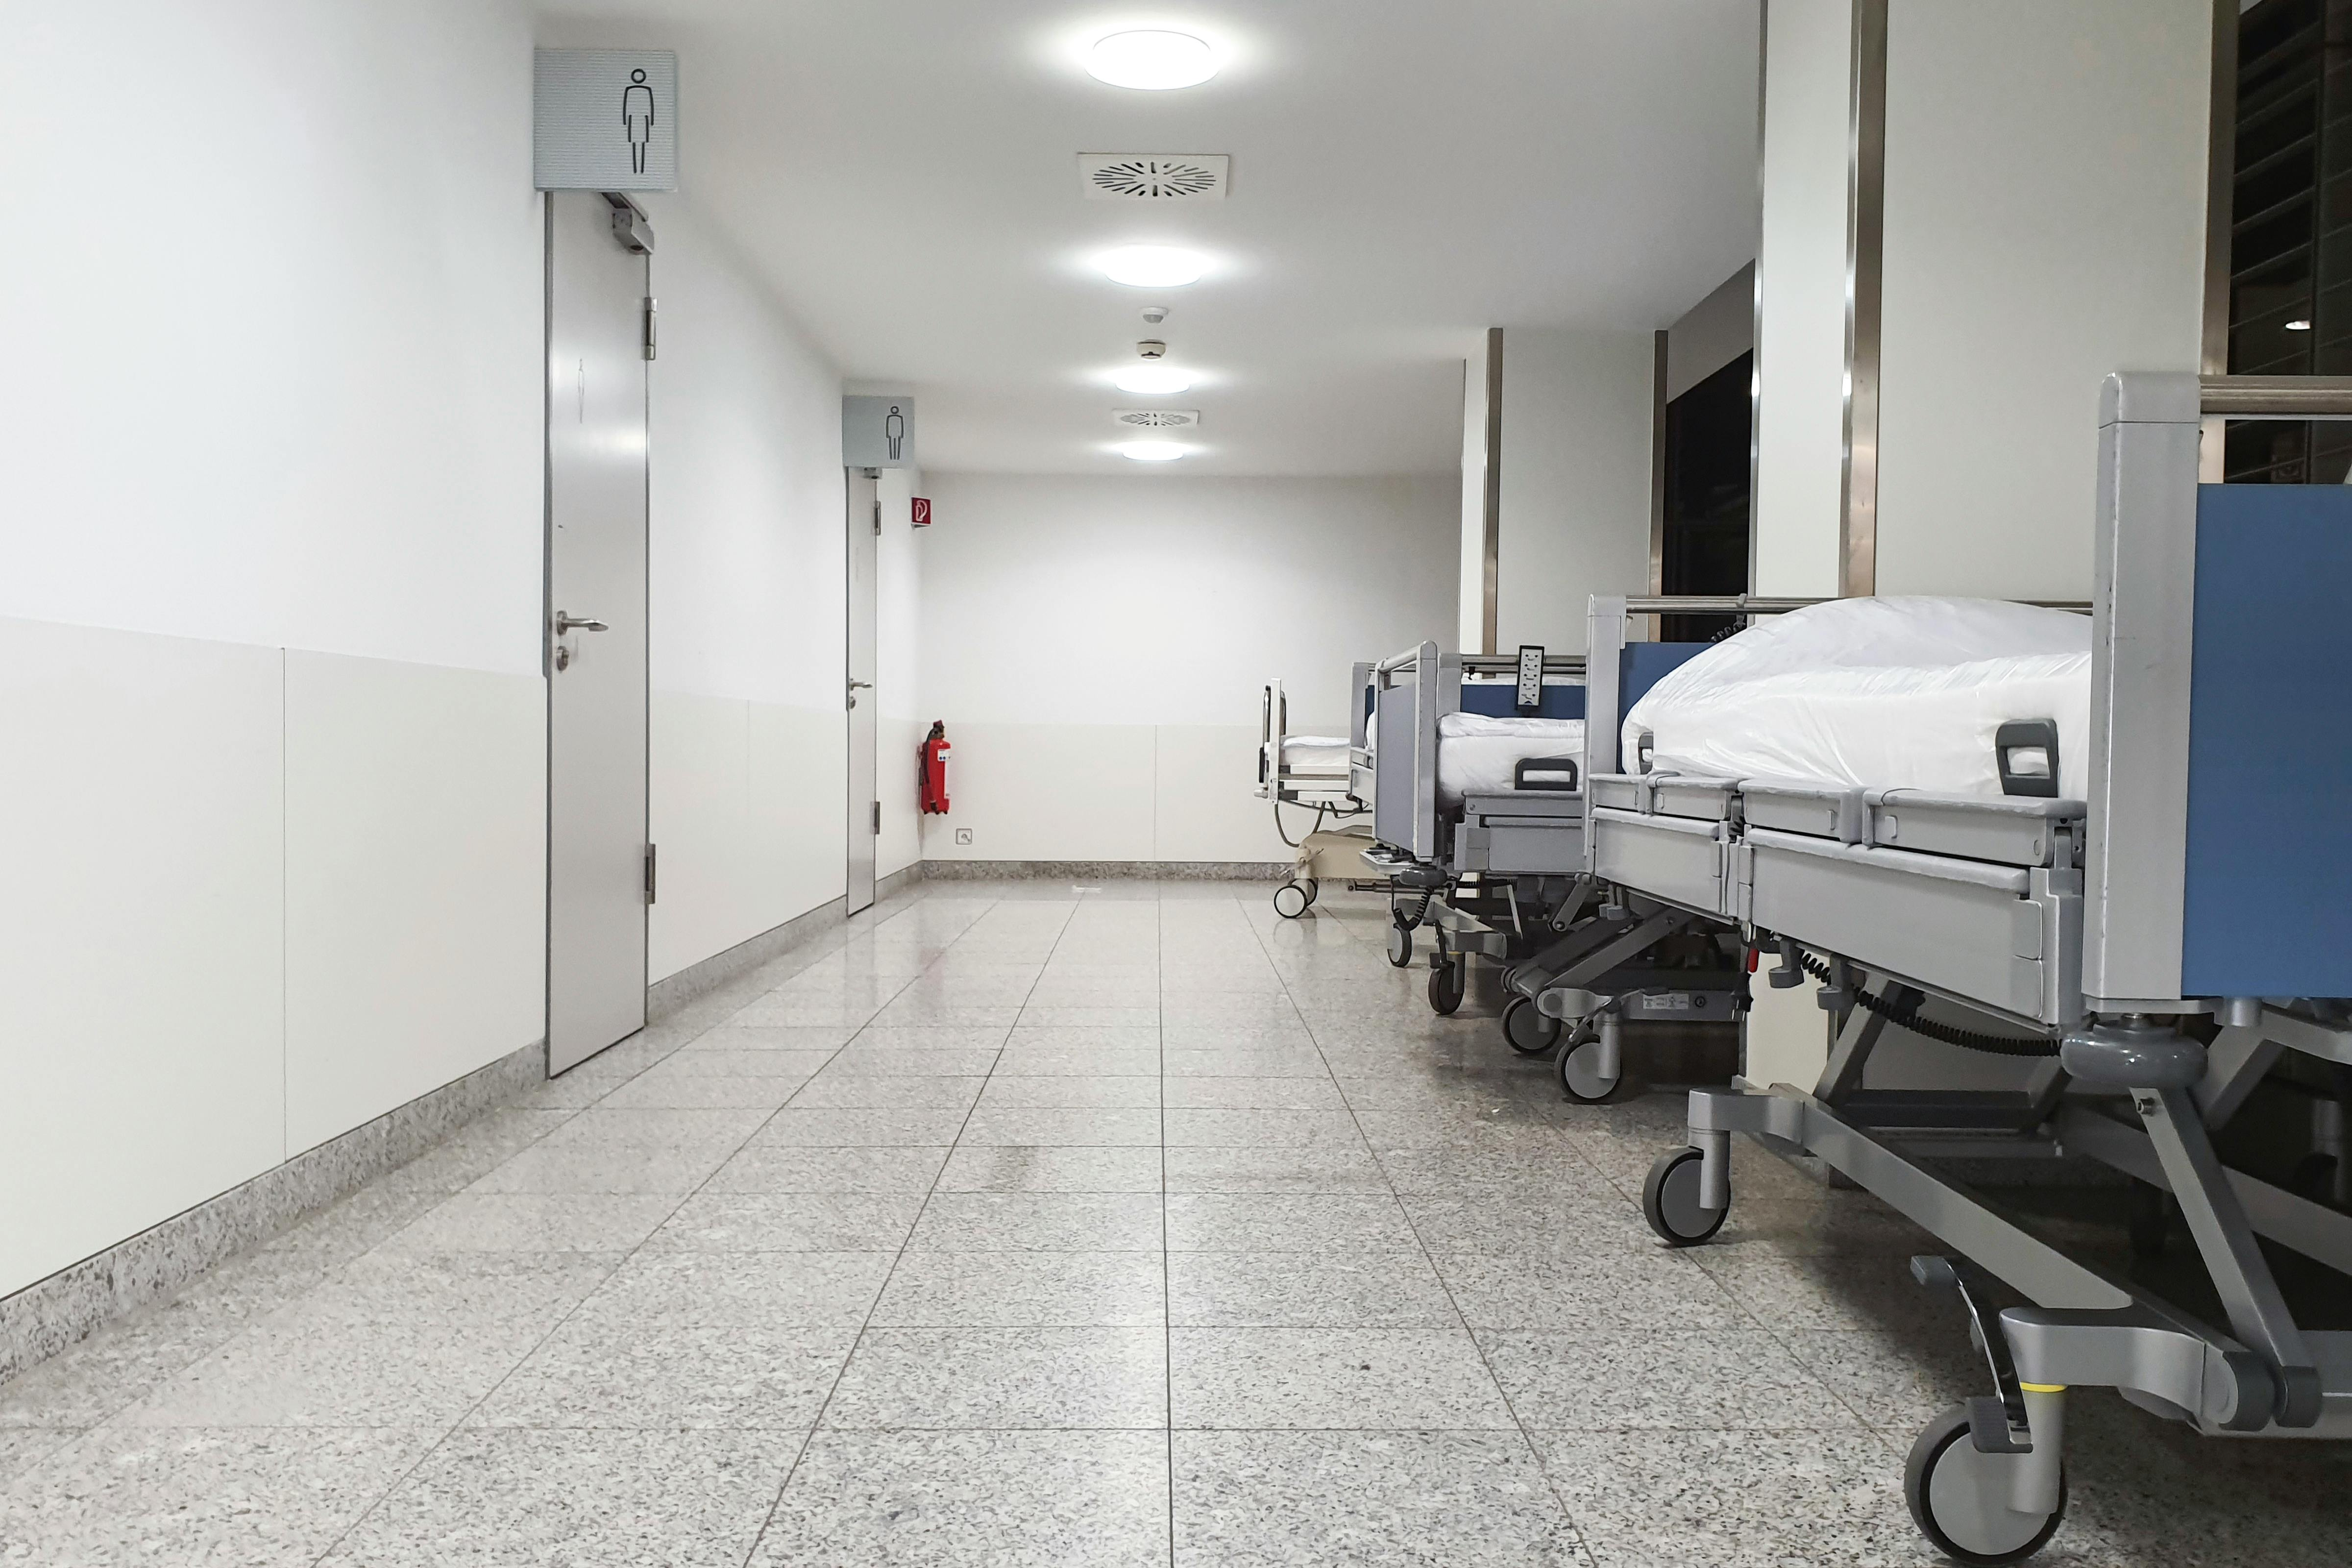extintor: (912, 712, 963, 822)
